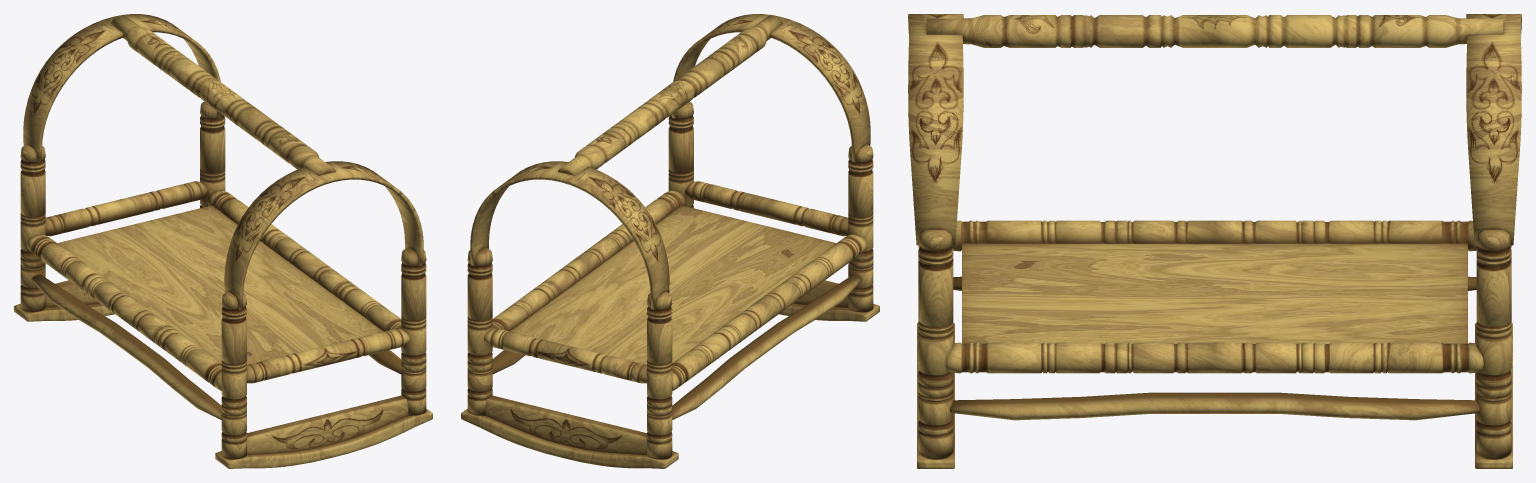
Rendered from besik.glb.
3 views of the same model, side by side, from view 1: azimuth 30°, elevation 25°; view 2: azimuth 150°, elevation 25°; view 3: azimuth 270°, elevation 25° (orthographic). The views are drawn at different scales.
Size of the model in its own units: 2.37 by 3.21 by 4.44.
Materials: 9 (9 with a texture image).
